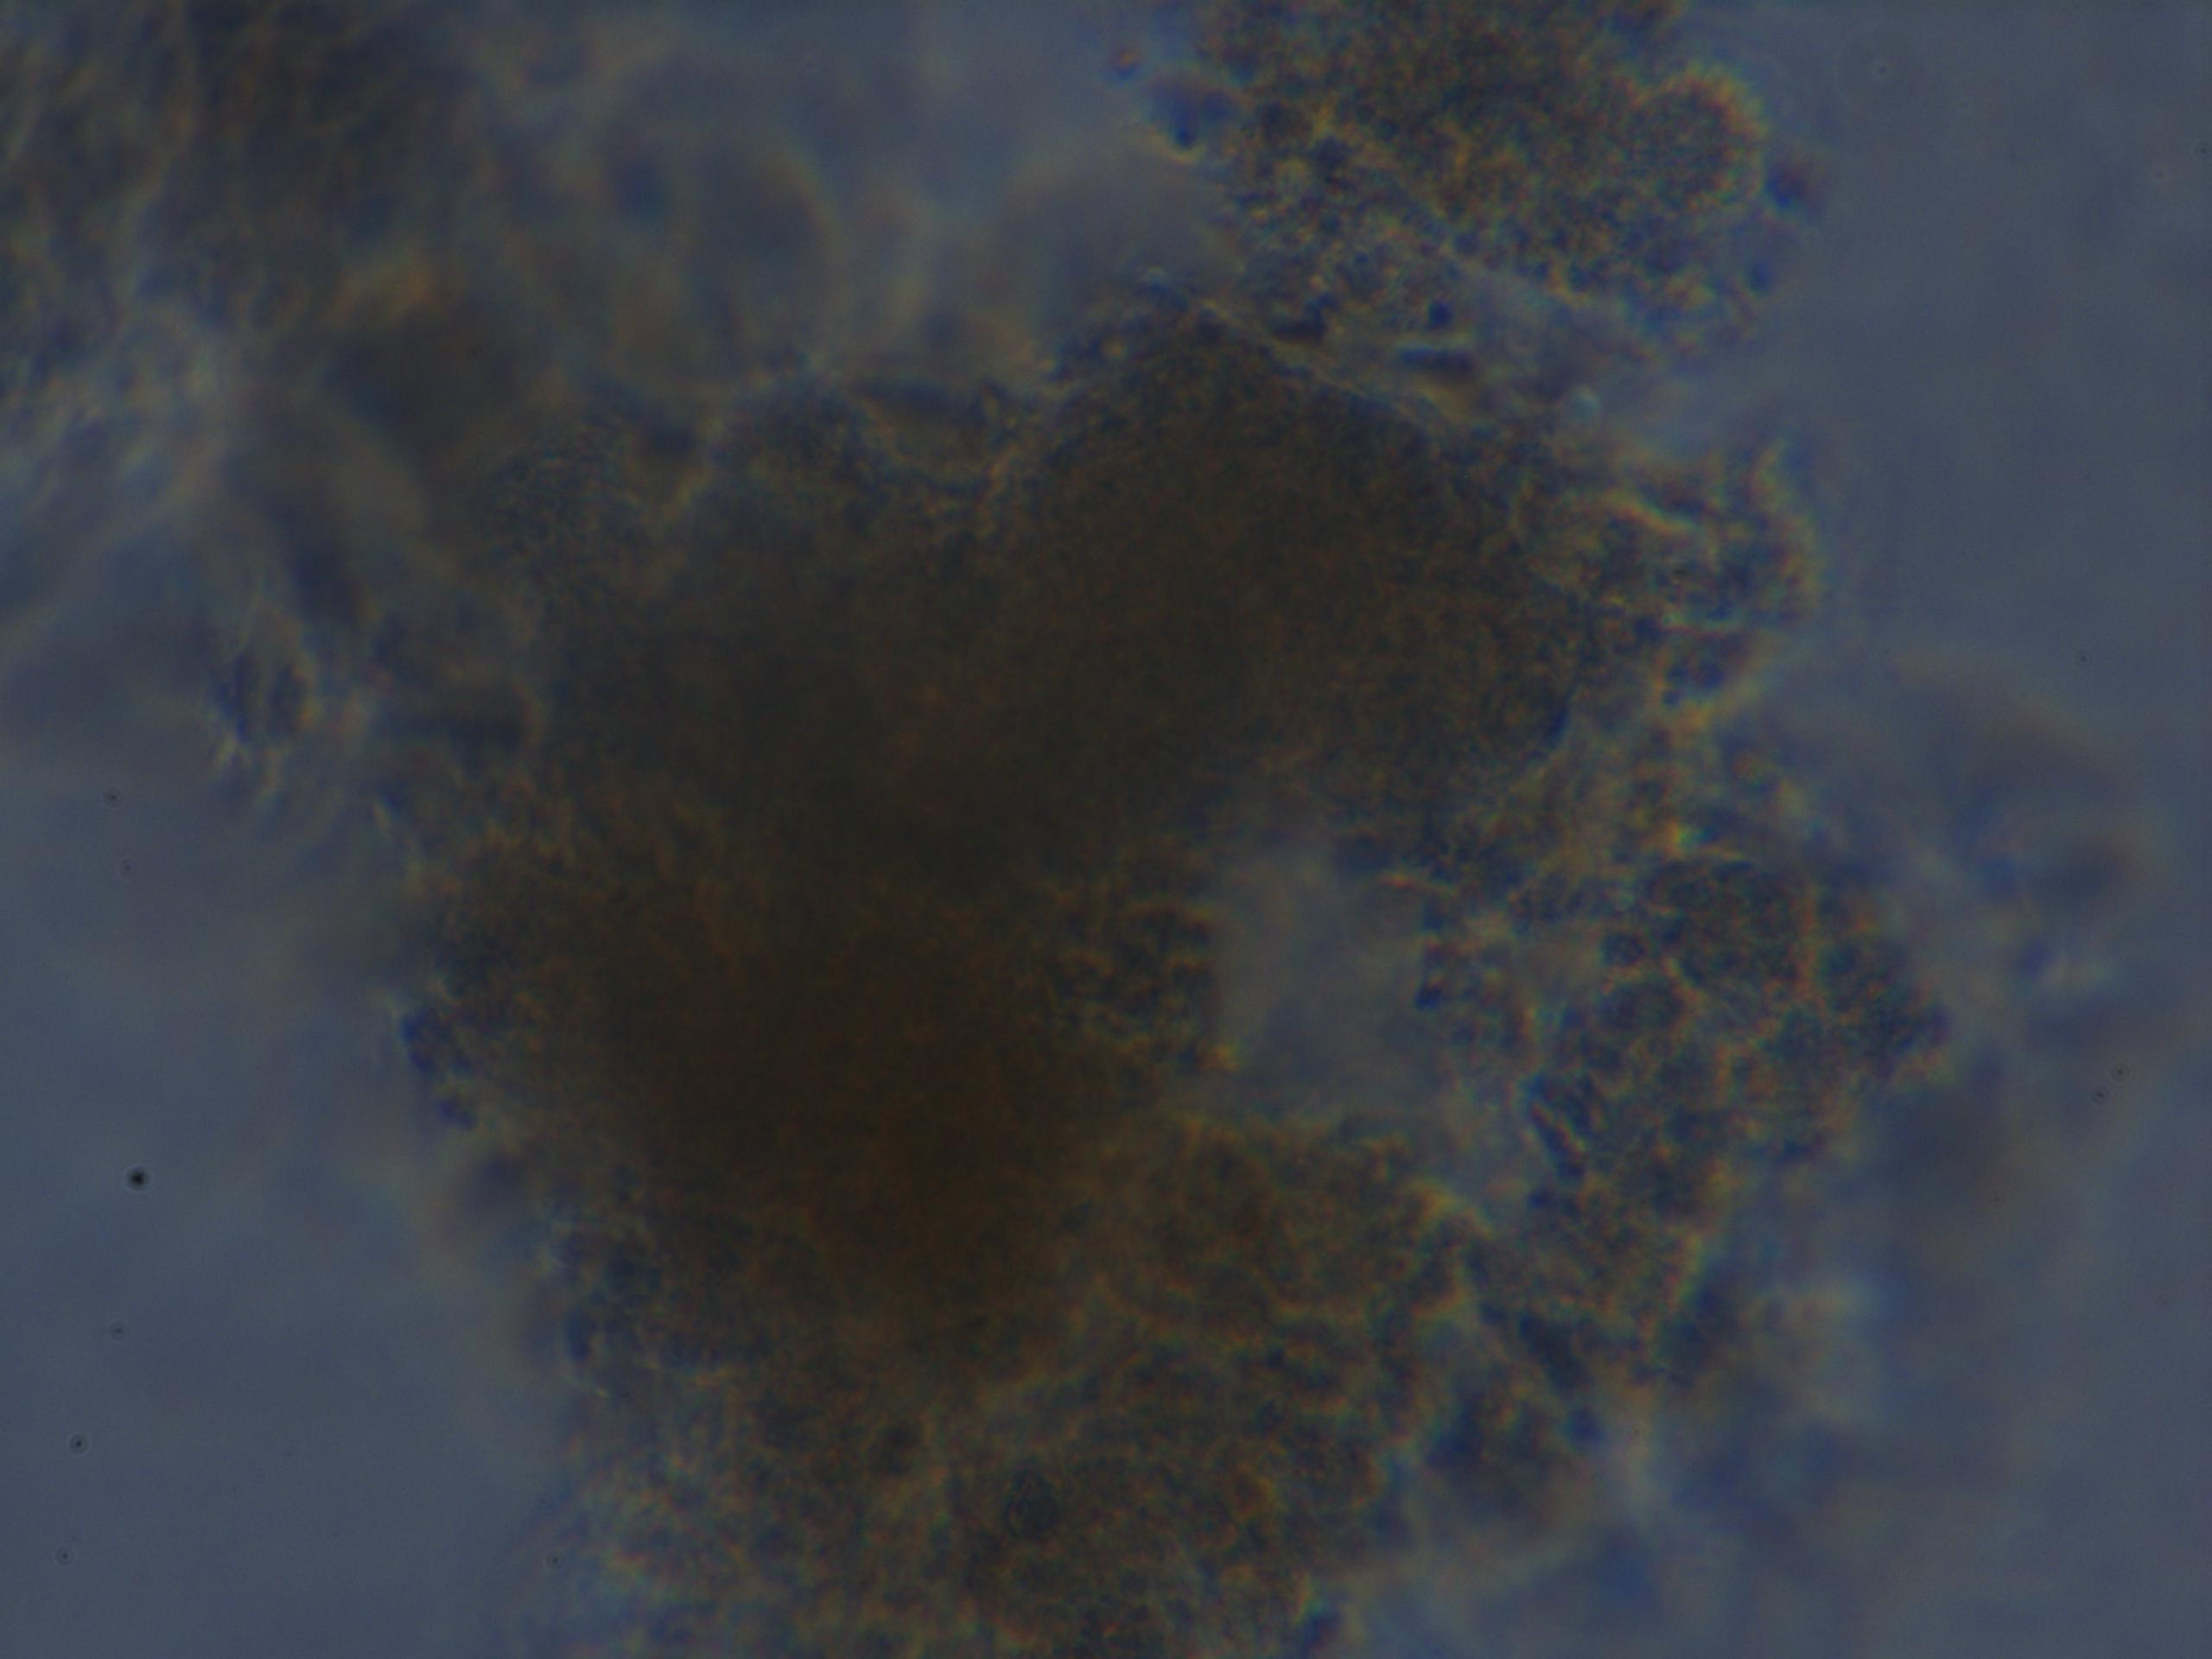open_floc: (324, 321, 1954, 1659)
